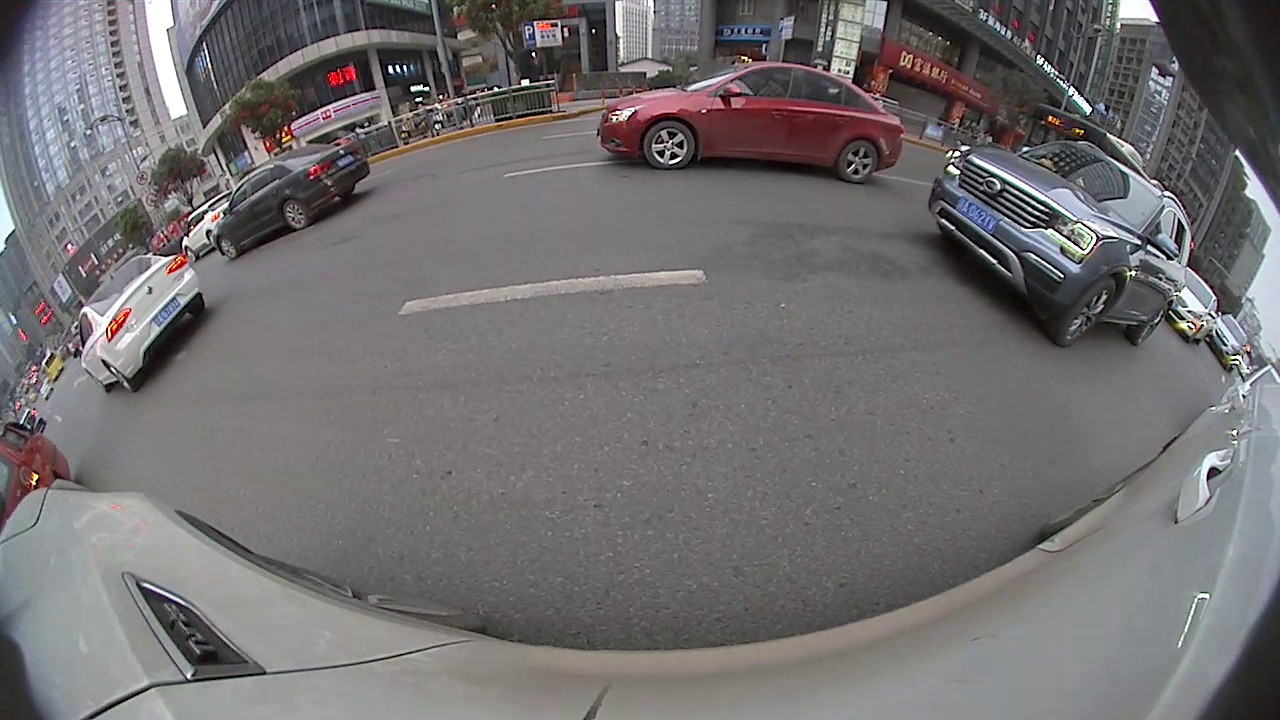bus: (1024, 101, 1156, 181)
car: (927, 138, 1196, 348), (598, 59, 907, 185), (74, 248, 208, 396), (212, 140, 372, 261), (1167, 263, 1220, 344)
front: (1054, 276, 1118, 351), (643, 119, 695, 172), (216, 236, 240, 261)
rear: (839, 138, 878, 186), (103, 363, 137, 395), (280, 198, 311, 232)
